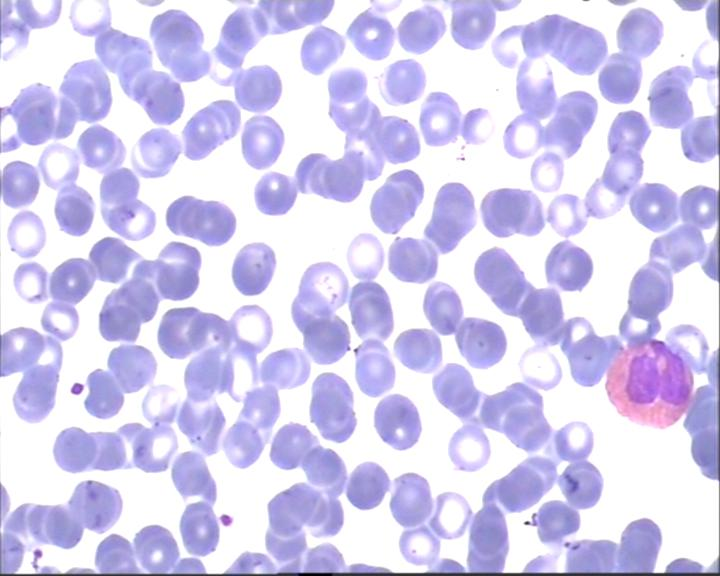eosi: (599, 334, 695, 431)
